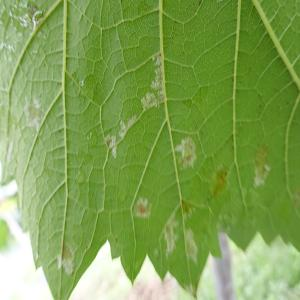Folha: (0, 0, 299, 298)
Fungo: (21, 92, 42, 136), (152, 51, 168, 106), (252, 142, 270, 188), (209, 163, 230, 199), (174, 135, 196, 169), (56, 243, 74, 275), (133, 196, 151, 218), (140, 91, 158, 111), (105, 134, 117, 158), (78, 76, 86, 89), (87, 128, 93, 142), (140, 204, 145, 213)
